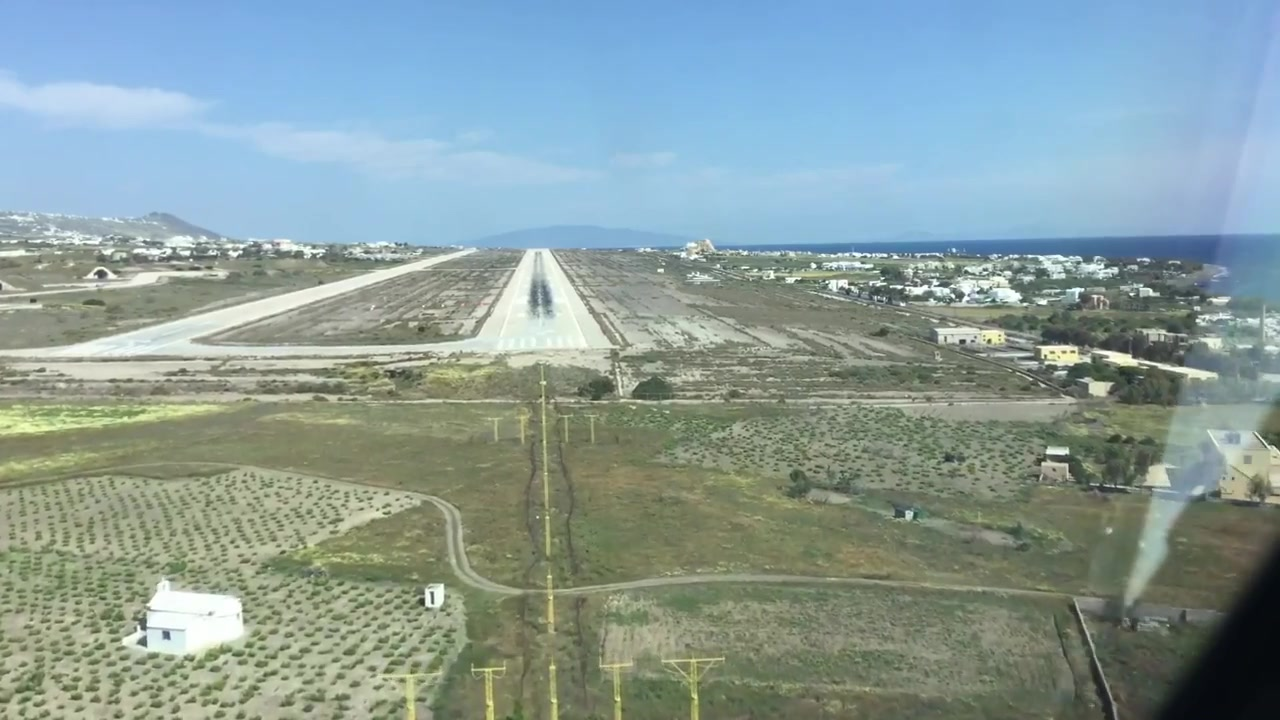entrance: (499, 336, 586, 349)
runway: (46, 248, 473, 359), (478, 248, 611, 352)
